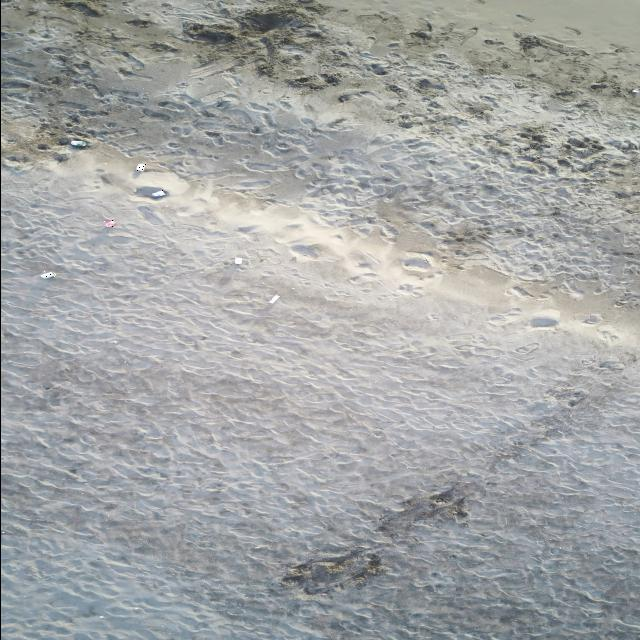Garbage: (135, 187, 167, 199), (68, 140, 87, 148), (151, 188, 166, 198), (268, 293, 279, 303), (40, 272, 55, 278), (104, 219, 115, 226), (136, 163, 144, 171), (233, 256, 240, 263), (632, 88, 639, 95)
